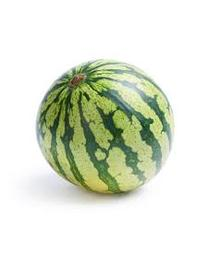watermelon: (35, 57, 175, 195)
